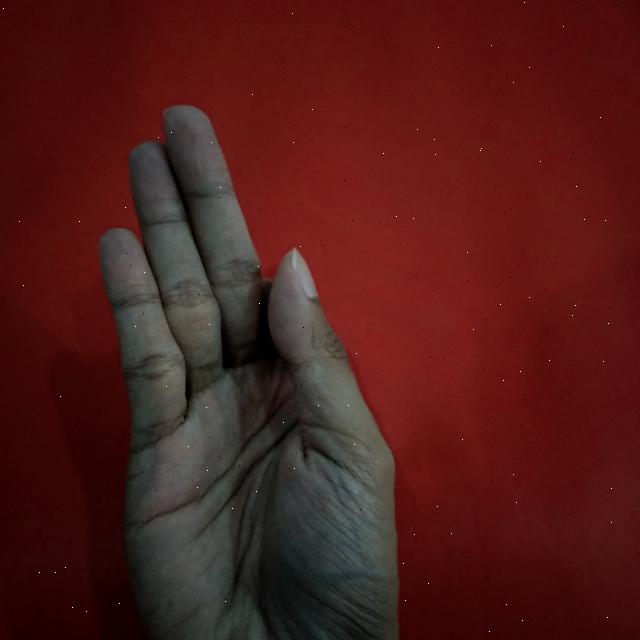F: (97, 101, 402, 640)
